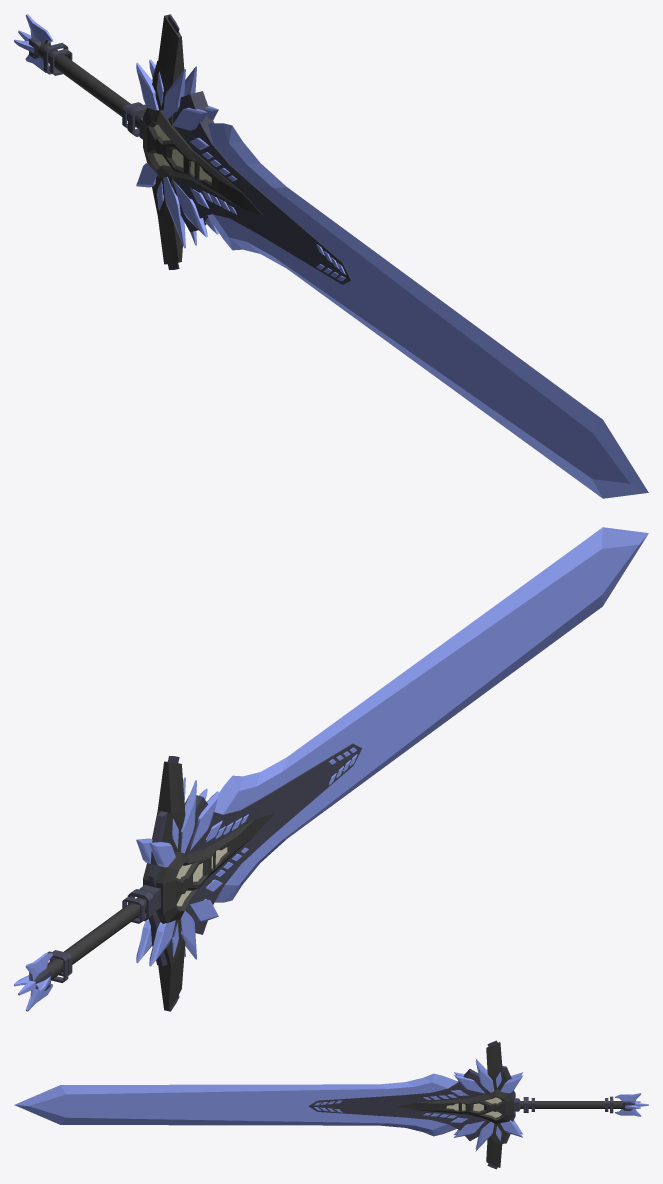
File: Crystal Sword.fbx
The picture shows the model from 3 angles, top to bottom: view 1: azimuth 30°, elevation 25°; view 2: azimuth 150°, elevation 25°; view 3: azimuth 270°, elevation 25°; orthographic projection. The views are drawn at different scales.
Visible parts, largest first — view 1: Sword; view 2: Sword; view 3: Sword.
Part boxes in pixels (<box>): Sword: <box>14,14,648,498</box>; Sword: <box>14,527,648,1011</box>; Sword: <box>14,1040,648,1169</box>.
Bounding box in the file's own units: 53.27 × 461 × 2059.
